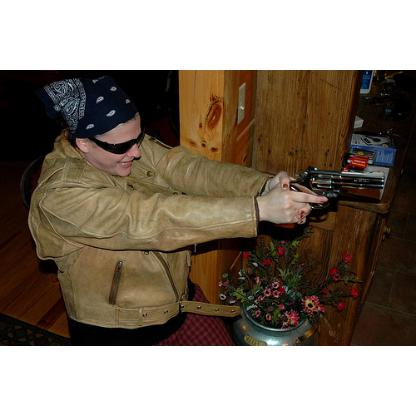gun: (285, 164, 385, 228)
